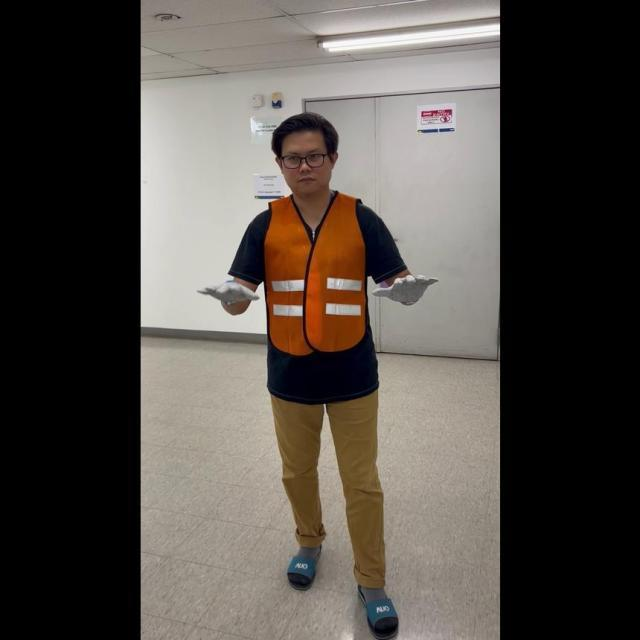gloved_hand: (368, 268, 438, 308), (195, 271, 259, 308)
